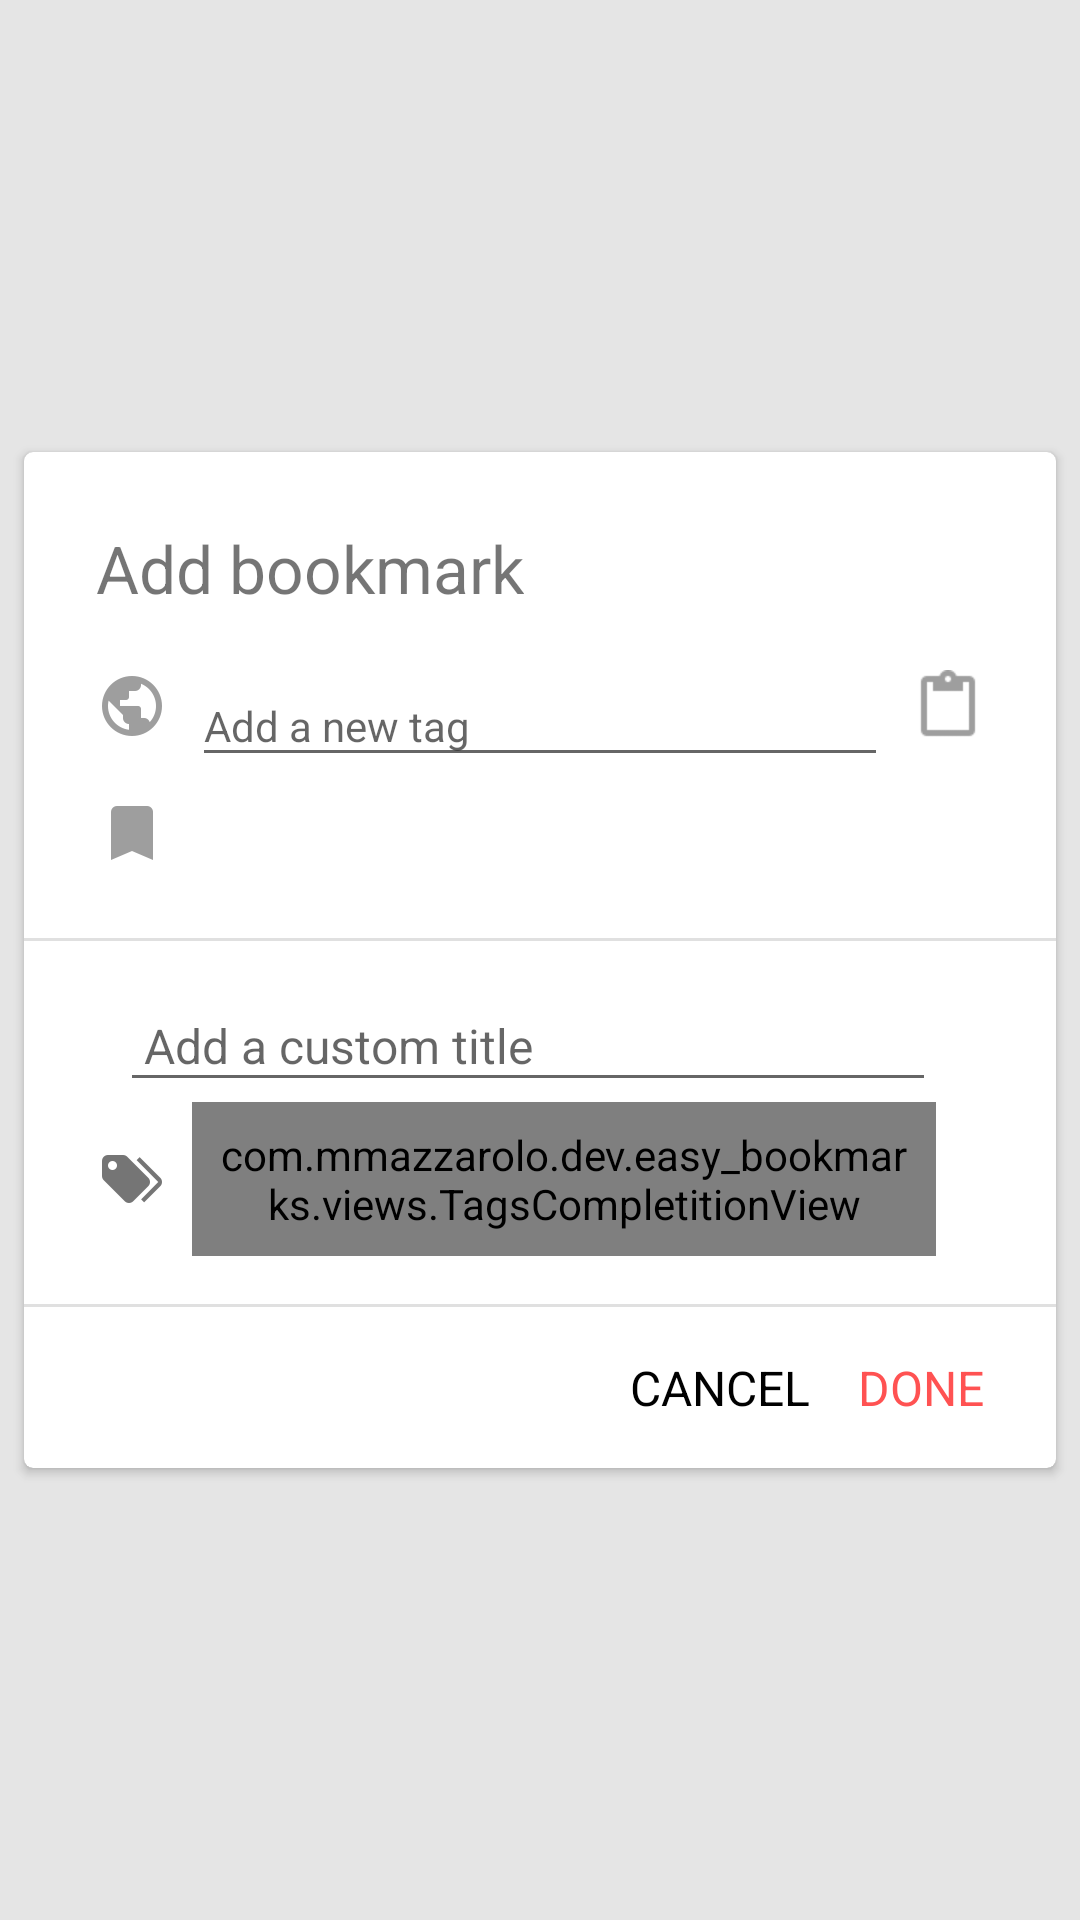

Icons on this 1080w x 1920h Android screen, each with the point to tap as (x,y):
Paste icon: (948,703)
Url icon: (132,706)
